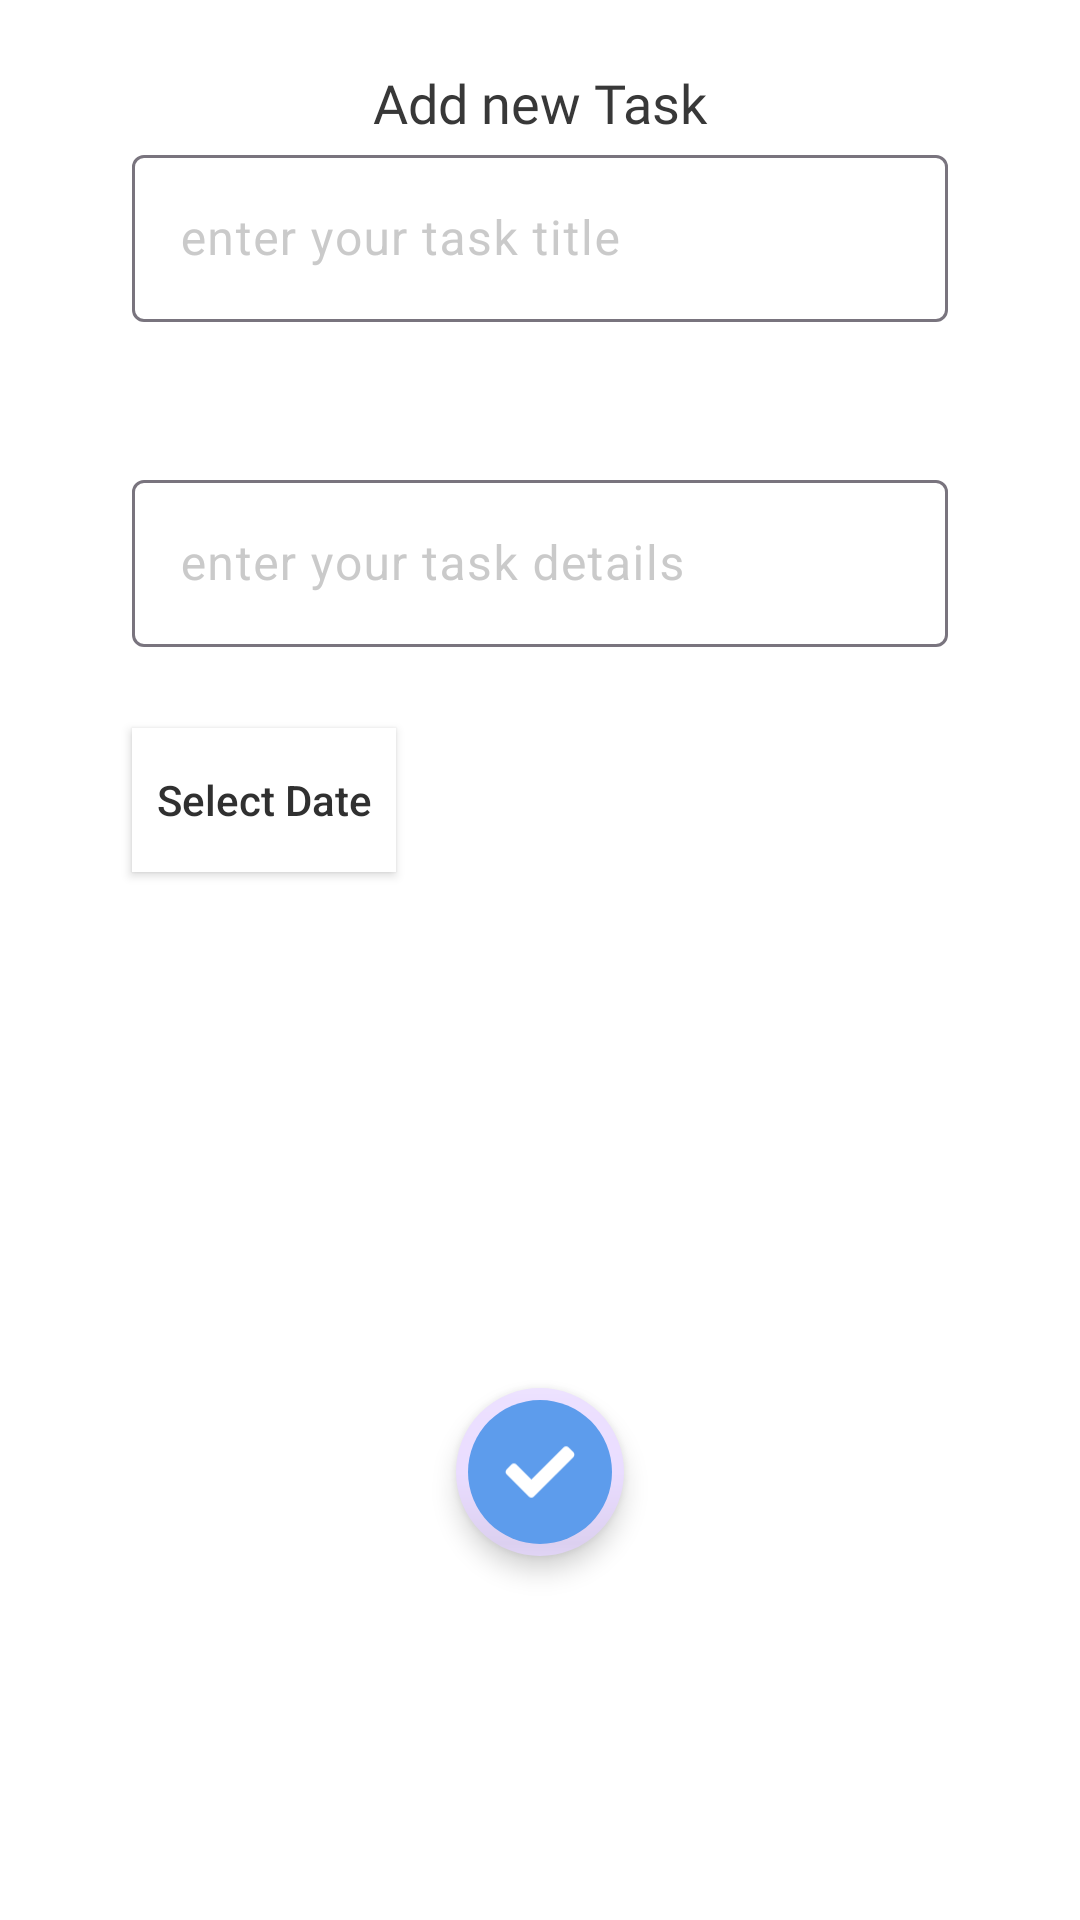

Icons on this 1080x1920 Android screen, each with the point to tap as [x,y]:
check: [540,1472]
